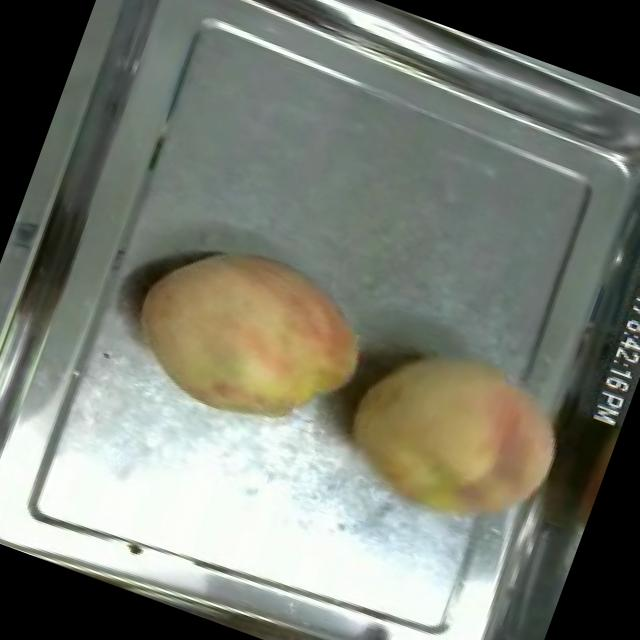Fruit: (110, 213, 390, 460), (324, 314, 590, 560)
